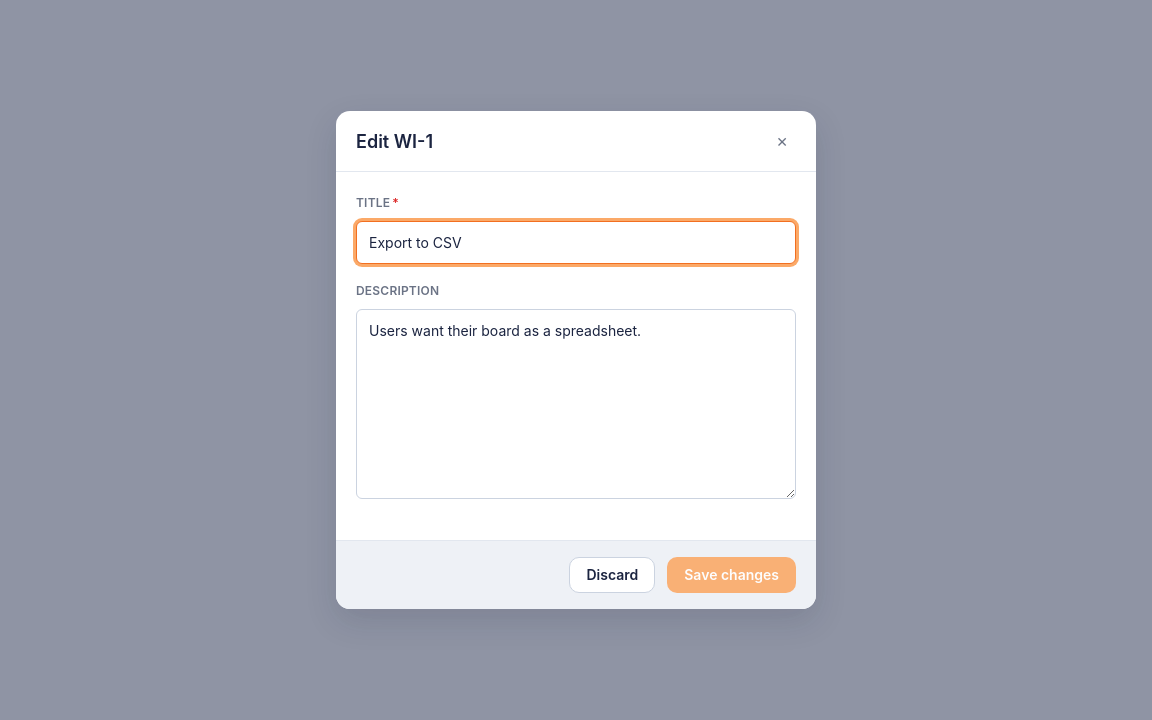
Test: the edit dialog › will not save until something has actually changed
The width and height of the screenshot is (1152, 720).
Check: the button "Save changes" is disabled, box [667,557,796,593]
In the field labelled "Title*": (576, 242) [356,221,796,264], type "!"
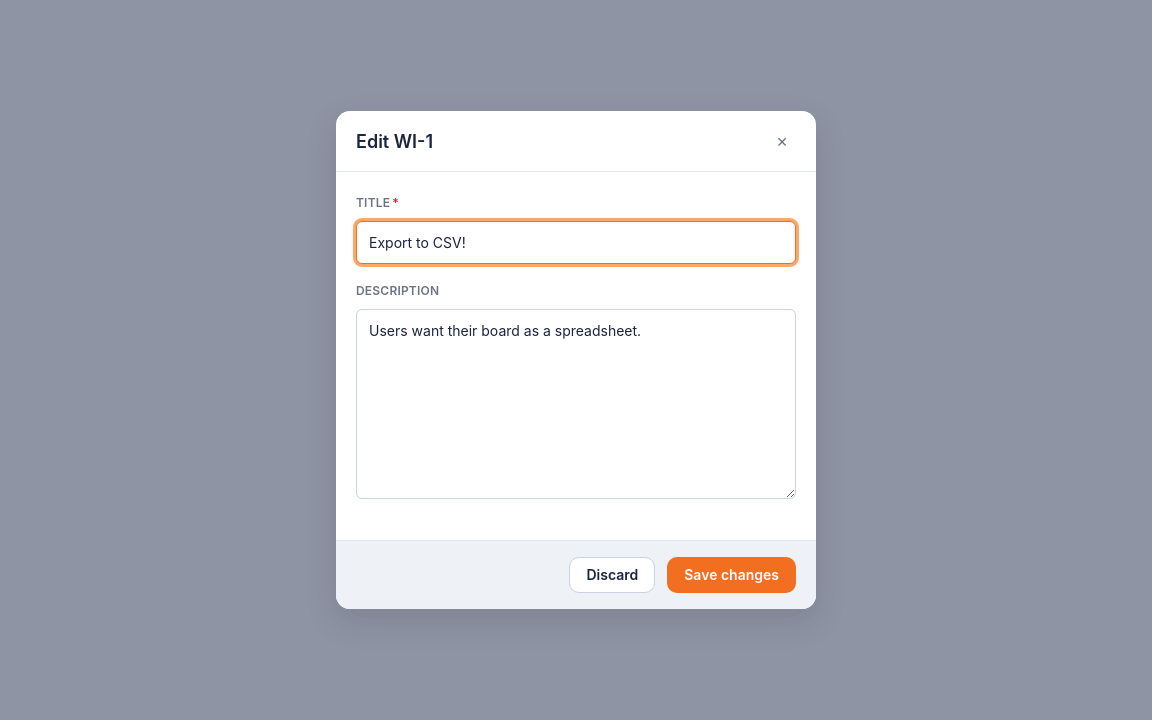
Check: the button "Save changes" is enabled, box [667,557,796,593]
Press Backspace
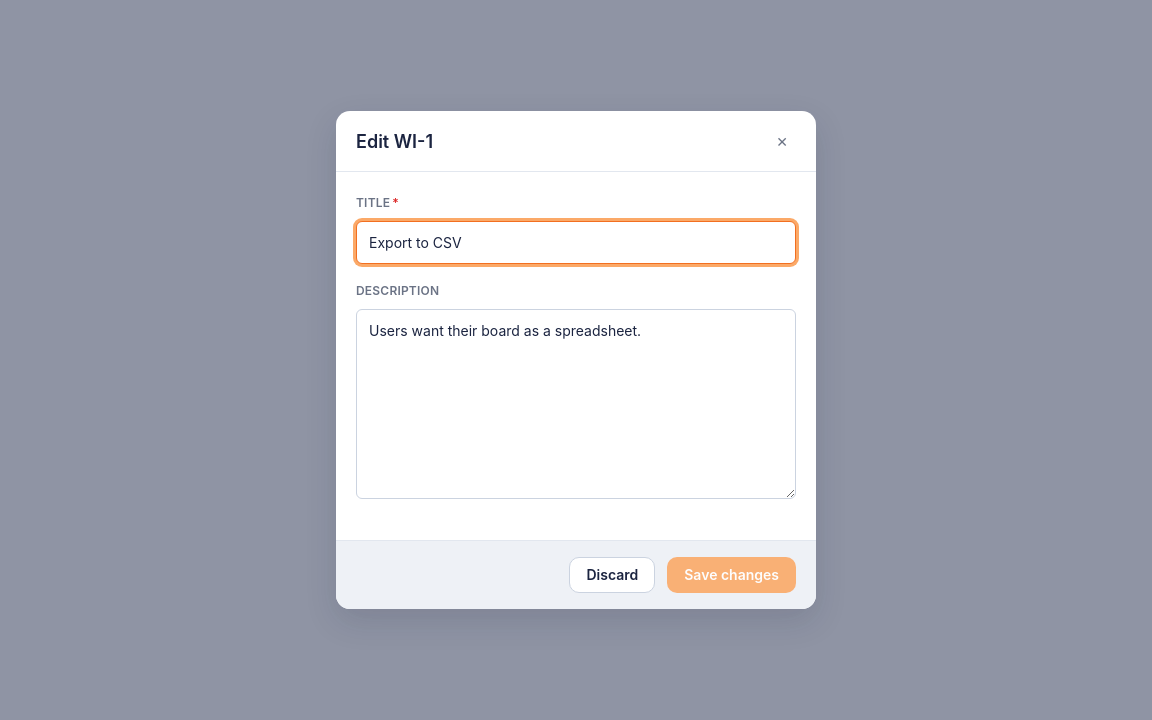
Check: the button "Save changes" is disabled, box [667,557,796,593]
